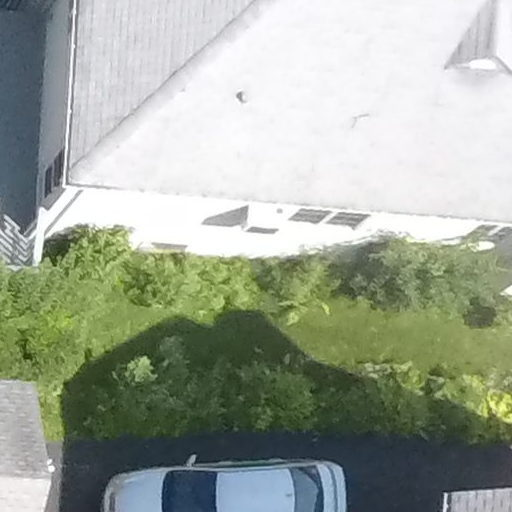car: (93, 440, 367, 512)
